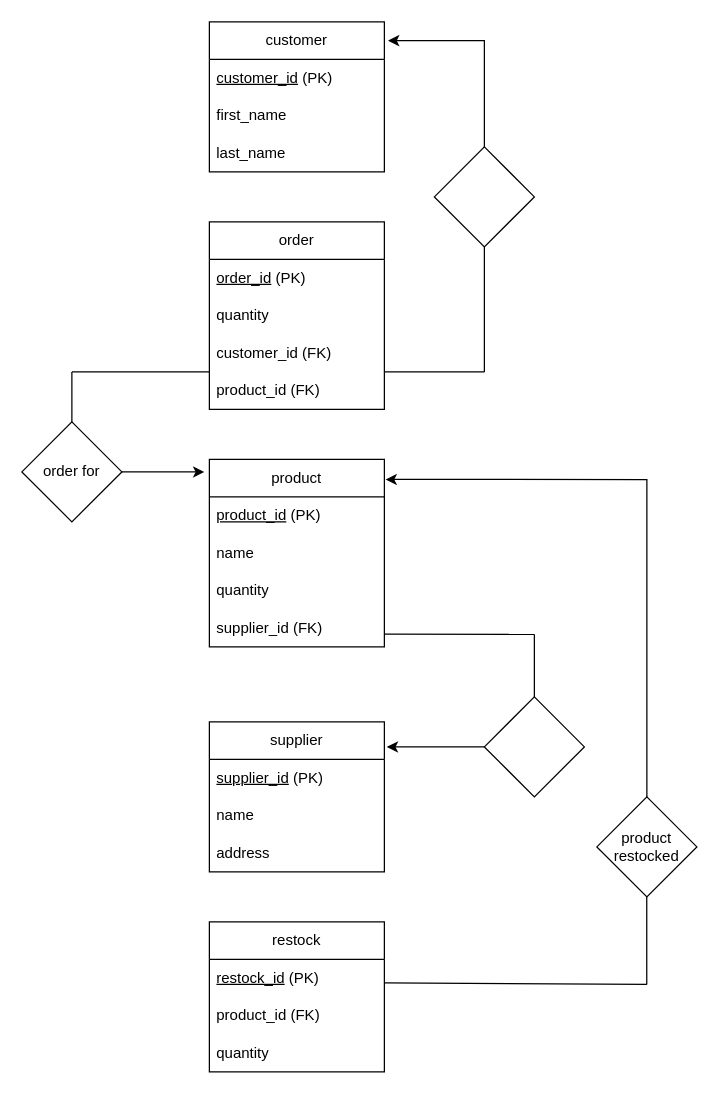
Some shapes in this 719 by 1094 pixel diagram are drawn without their labels. Each missing label, with the centre of its shape:
"places order" goes at (x=483, y=196).
"supplied by" goes at (x=533, y=746).
